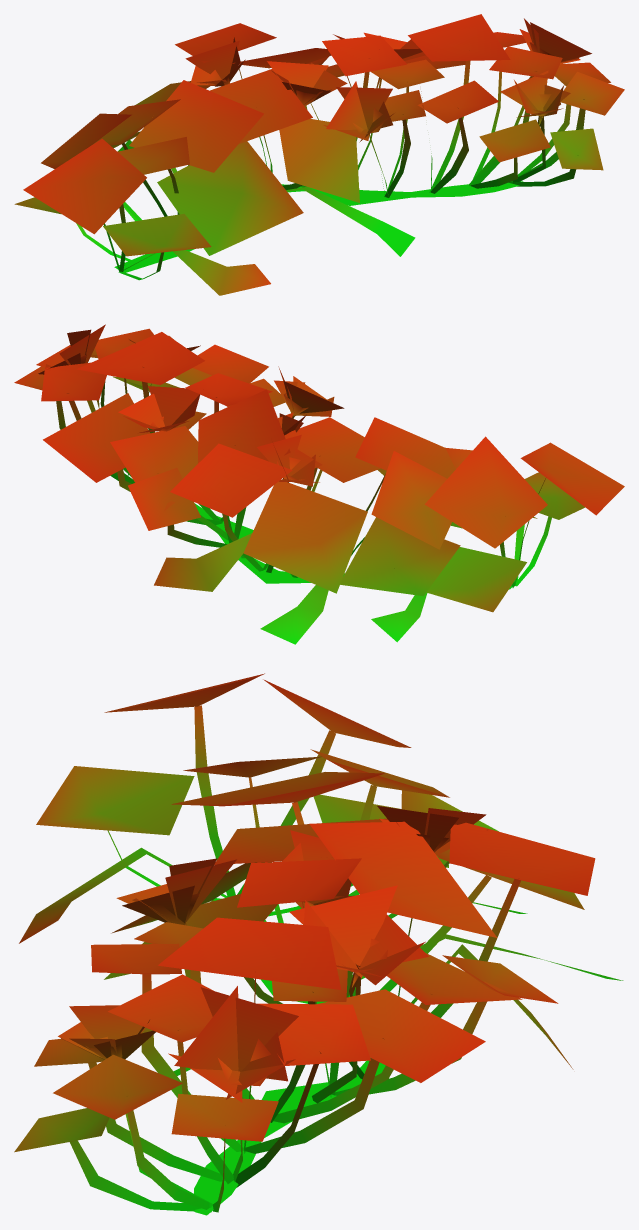
Rendered from Var3_LOD2.fbx.
The picture shows the model from 3 angles, top to bottom: view 1: azimuth 30°, elevation 25°; view 2: azimuth 150°, elevation 25°; view 3: azimuth 270°, elevation 25°; orthographic projection. The views are drawn at different scales.
Parts seen in each view (by area): view 1: Var3_LOD2; view 2: Var3_LOD2; view 3: Var3_LOD2.
Part boxes in pixels (left/top/right/bottom): Var3_LOD2: left=14, top=14, right=624, bottom=295; Var3_LOD2: left=14, top=324, right=624, bottom=644; Var3_LOD2: left=14, top=673, right=623, bottom=1215.
Size of the model in its own units: 60.57 by 16.82 by 34.6.
